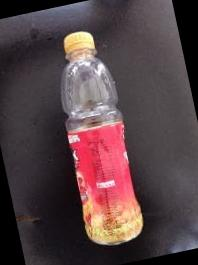Plastik: (61, 31, 143, 244)
